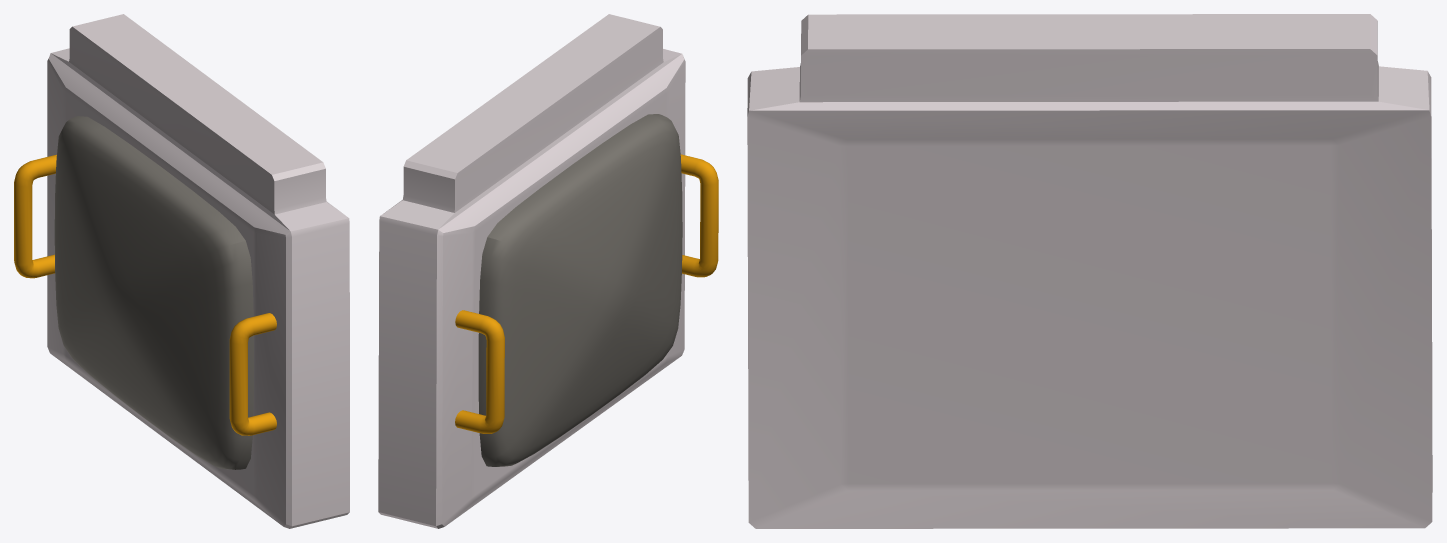
Rendered from Tablet_Extra00.fbx.
The picture shows the model from 3 angles, left to right: view 1: azimuth 30°, elevation 25°; view 2: azimuth 150°, elevation 25°; view 3: azimuth 270°, elevation 25°; orthographic projection. The views are drawn at different scales.
Visible parts, largest first — view 1: Tablet_DesktopExtra.001; view 2: Tablet_DesktopExtra.001; view 3: Tablet_DesktopExtra.001.
Boxes of the visible parts, bbox=[...] form: Tablet_DesktopExtra.001: bbox=[14, 14, 349, 528]; Tablet_DesktopExtra.001: bbox=[378, 14, 718, 528]; Tablet_DesktopExtra.001: bbox=[747, 14, 1432, 528].
Size of the model in its own units: 0.1442 by 0.4096 by 0.5327.
